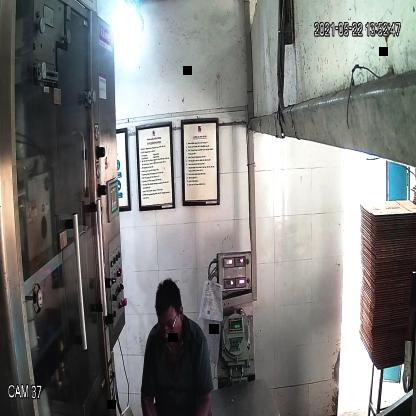goggles: (157, 314, 181, 336)
